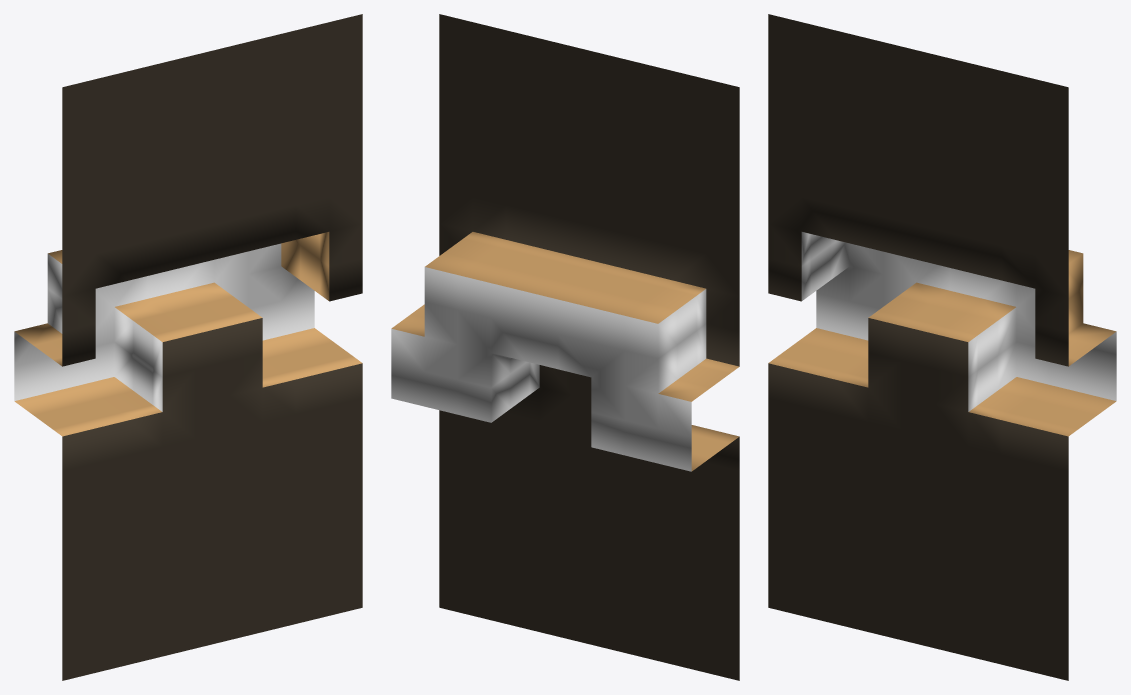
File: Corridor-003.fbx
The picture shows the model from 3 angles, left to right: view 1: azimuth 30°, elevation 25°; view 2: azimuth 150°, elevation 25°; view 3: azimuth 330°, elevation 25°; orthographic projection.
Visible parts, largest first — view 1: Corridor.000; view 2: Corridor.000; view 3: Corridor.000.
Part boxes in pixels (x1=…): Corridor.000: x1=14, y1=14, x2=362, y2=680; Corridor.000: x1=391, y1=14, x2=739, y2=680; Corridor.000: x1=768, y1=14, x2=1116, y2=680.
Size of the model in its own units: 1800 by 3400 by 500.
